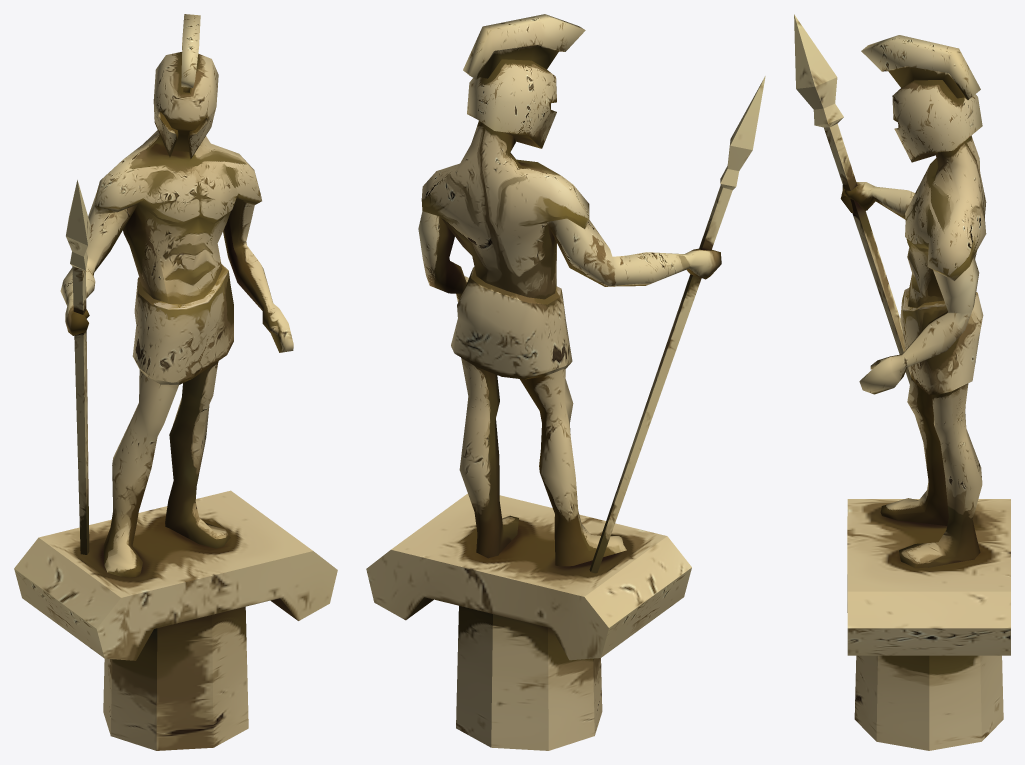
Rendered from Rome_Village_Props_21.FBX.
3 renders of one model, left to right at view 1: azimuth 30°, elevation 25°; view 2: azimuth 150°, elevation 25°; view 3: azimuth 270°, elevation 25°, orthographic.
Visible parts, largest first — view 1: Rome_Village_Props_21; view 2: Rome_Village_Props_21; view 3: Rome_Village_Props_21.
Boxes of the visible parts, x1,y1,x2,y2 form: Rome_Village_Props_21: (14,14,337,750); Rome_Village_Props_21: (366,14,765,750); Rome_Village_Props_21: (794,14,1010,750).
Bounding box in the file's own units: 274 × 628 × 181.
